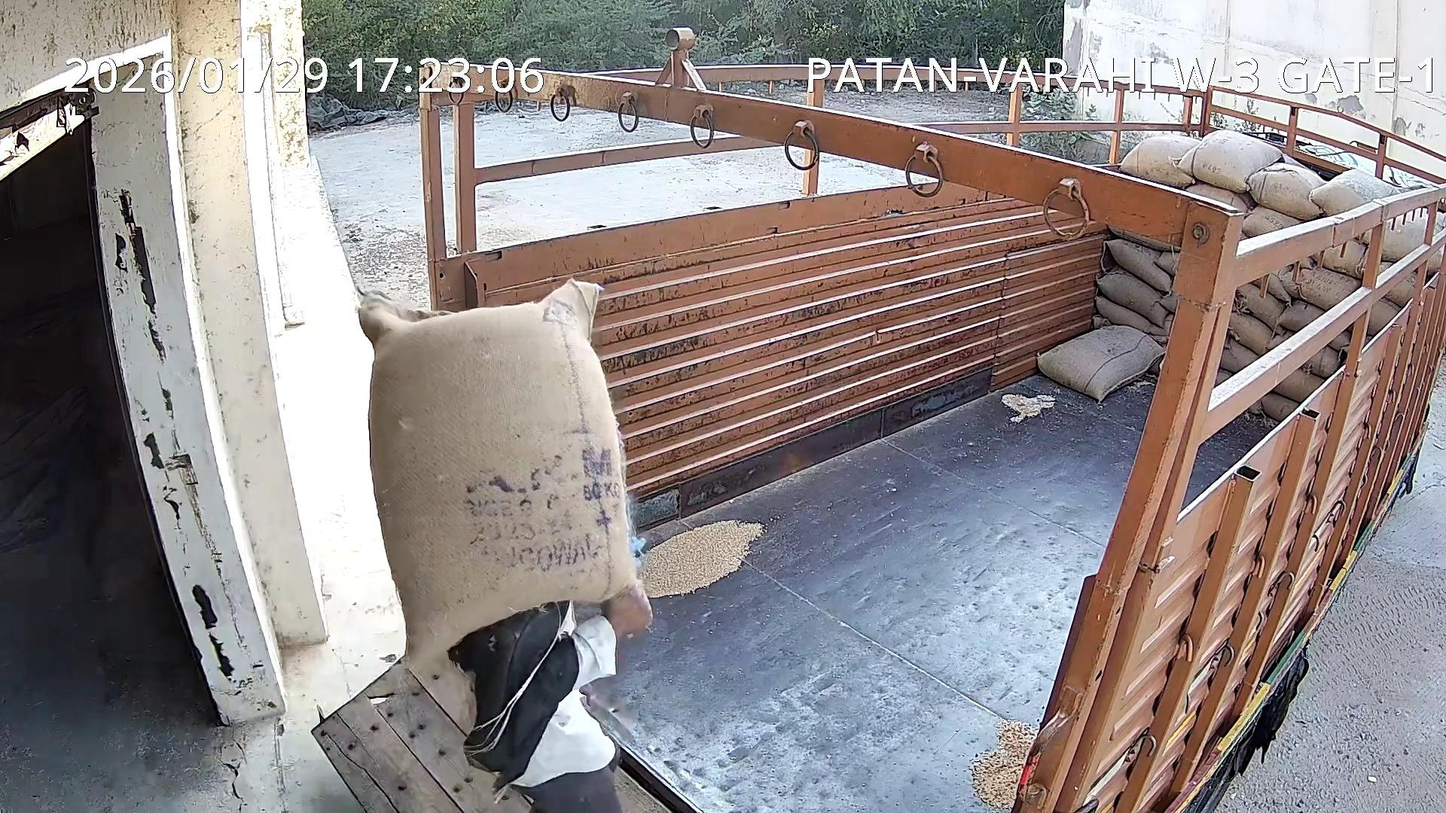Sack: (358, 280, 634, 658)
